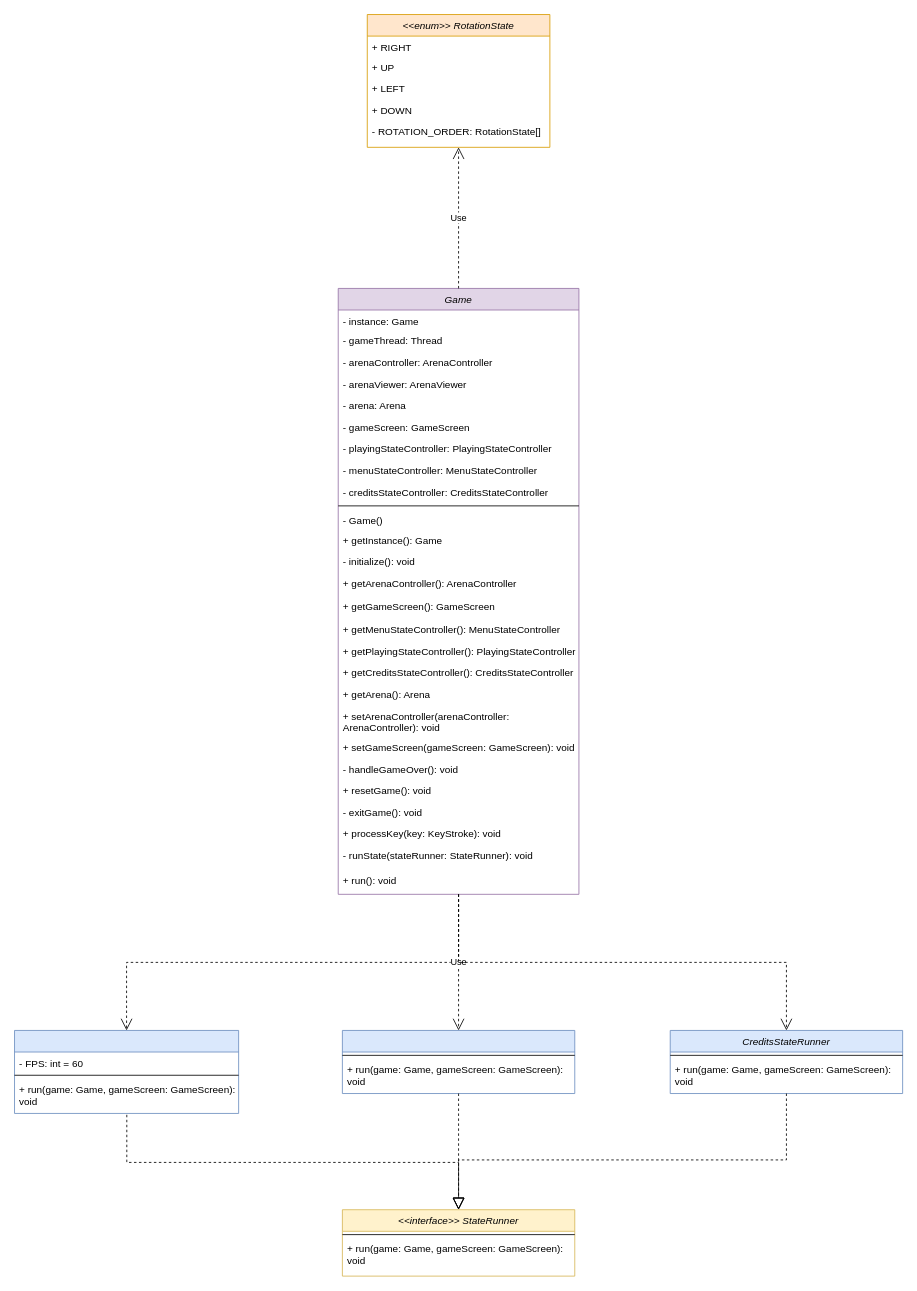
This 917x1291 diagram has some shape labels left out. The shapes that lost their labels are listed below. From the top down, each one's box as (x1, y1, x2, y2) in pixels, then its label:
(14, 1030, 239, 1113): PlayingStateRunner
(342, 1030, 575, 1094): MenuStateRunner
